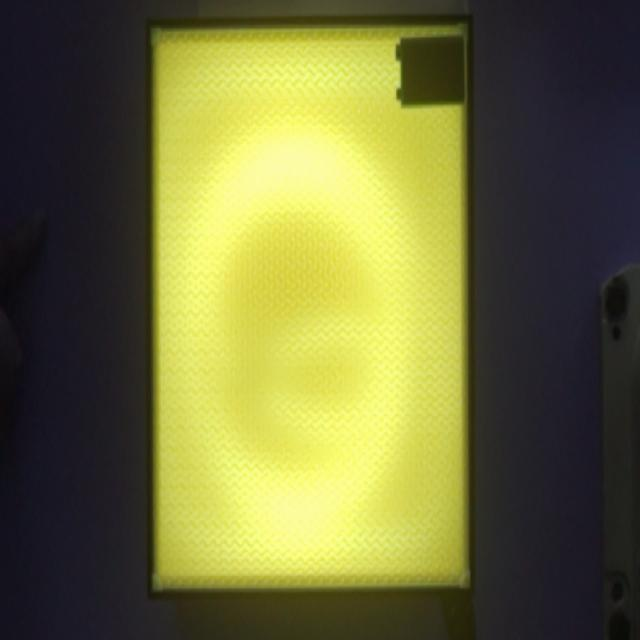bateria: (396, 36, 464, 107)
mesa: (146, 16, 476, 600)
